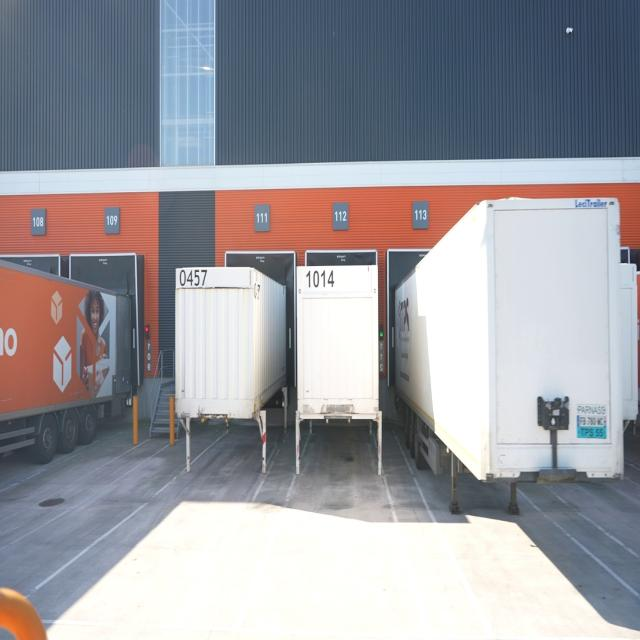Code: (176, 264, 209, 290), (305, 268, 336, 291)
